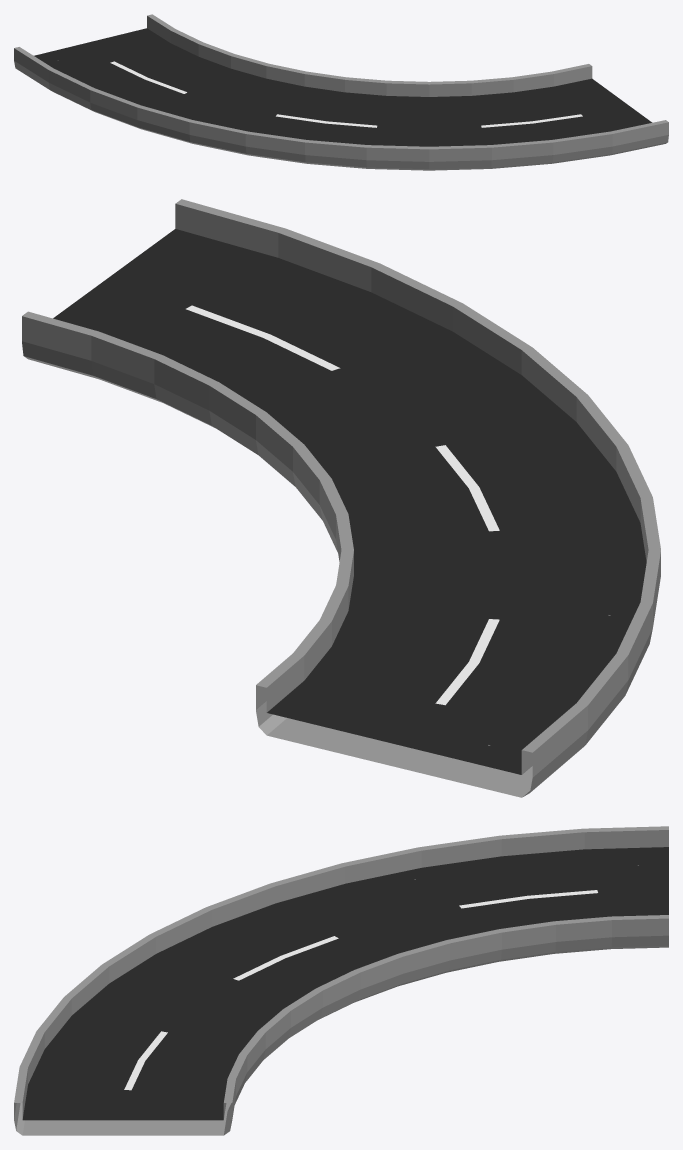
3 renders of one model, top to bottom at view 1: azimuth 30°, elevation 25°; view 2: azimuth 150°, elevation 25°; view 3: azimuth 270°, elevation 25°, orthographic. The views are drawn at different scales.
Parts seen in each view (by area): view 1: 3x3-90-col; view 2: 3x3-90-col; view 3: 3x3-90-col.
Part boxes in pixels (x1,y1,x2,y2): 3x3-90-col: (14, 14, 668, 170); 3x3-90-col: (22, 199, 660, 797); 3x3-90-col: (14, 826, 668, 1135).
Bounding box in the file's own units: 60 × 3.3 × 60.
Materials: 1 (1 with a texture image).
